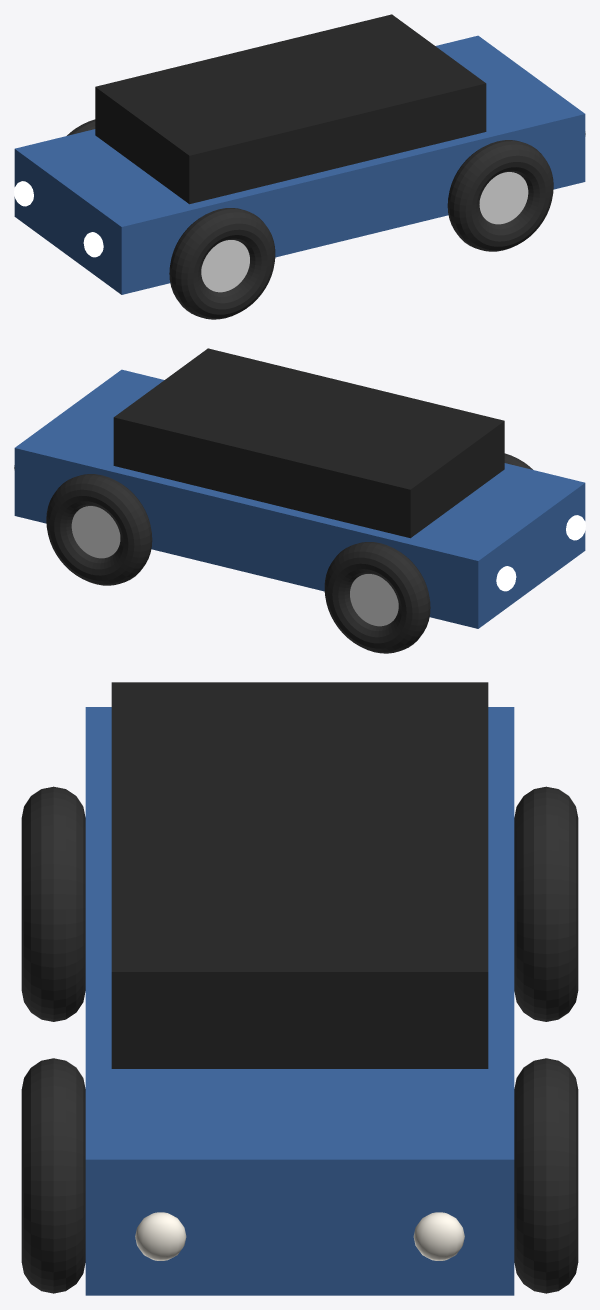
3 views of the same model, one above another, from view 1: azimuth 30°, elevation 25°; view 2: azimuth 150°, elevation 25°; view 3: azimuth 270°, elevation 25° (orthographic). The views are drawn at different scales.
Parts seen in each view (by area): view 1: SportsCarVariant; view 2: SportsCarVariant; view 3: SportsCarVariant.
Boxes of the visible parts, left/top/right/bottom form: SportsCarVariant: left=14, top=14, right=585, bottom=319; SportsCarVariant: left=14, top=348, right=585, bottom=653; SportsCarVariant: left=21, top=682, right=578, bottom=1295.
Bounding box in the file's own units: 5.37 × 1.6 × 2.6.
